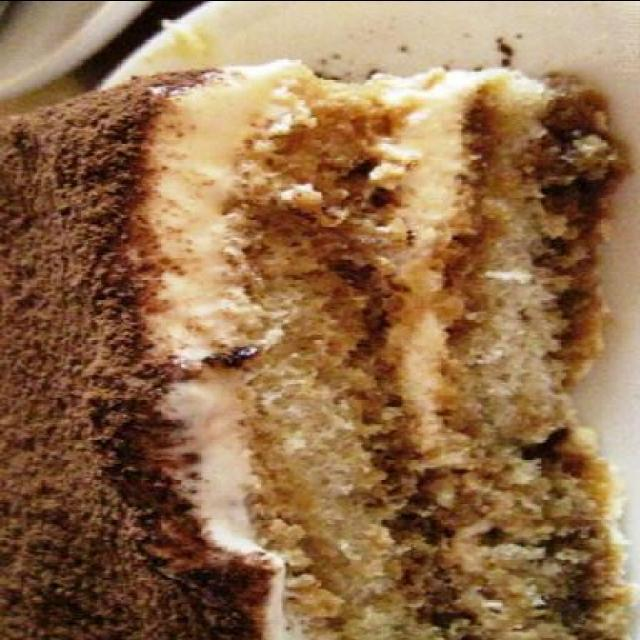Tiramisu: (10, 73, 628, 629)
